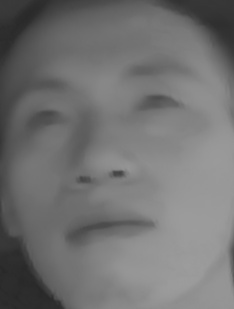eye: (127, 83, 184, 122), (14, 101, 70, 140)
mouth: (60, 198, 153, 250)
